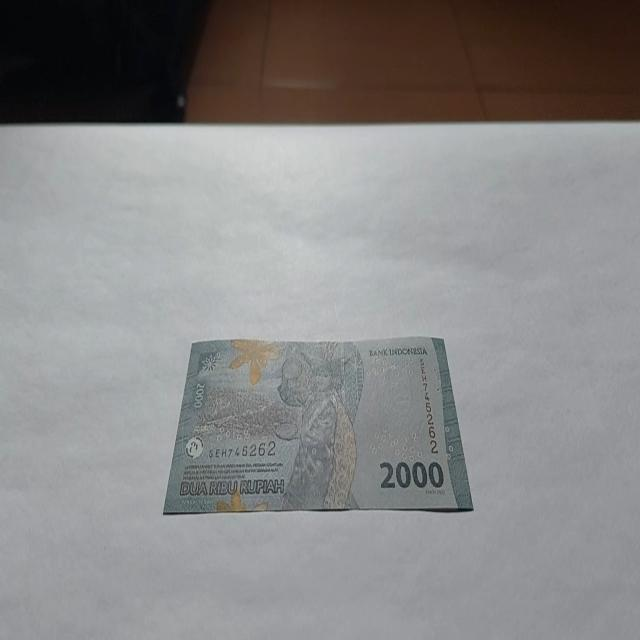dua ribu rupiah: (162, 334, 474, 516)
